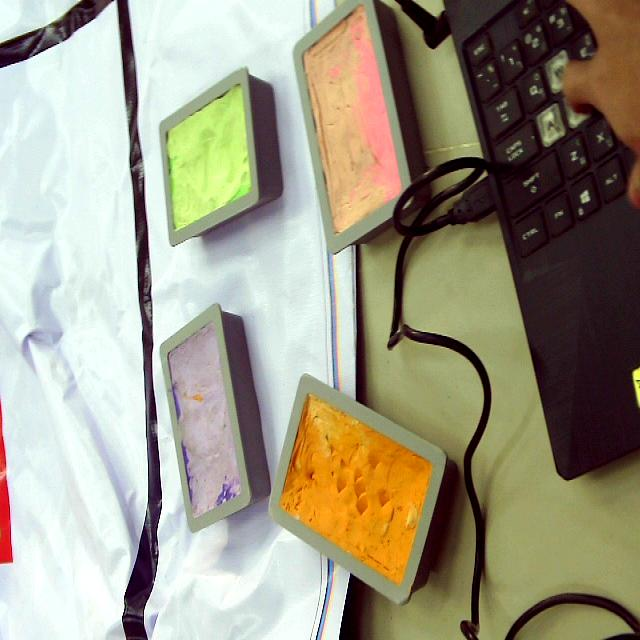block: (269, 373, 455, 607), (292, 1, 433, 257), (158, 300, 273, 531), (158, 67, 282, 247)
